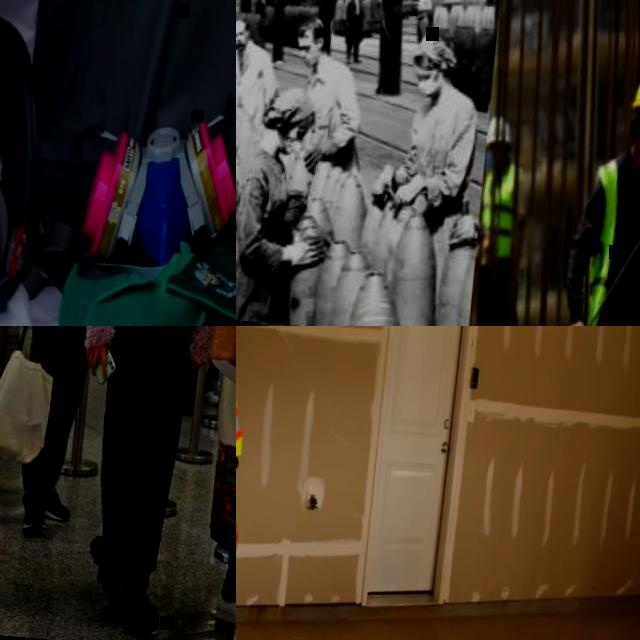Hardhat: (489, 115, 517, 149), (625, 73, 640, 122)
Mask: (76, 106, 236, 275), (0, 7, 54, 326), (281, 135, 303, 157), (417, 78, 440, 98), (486, 150, 500, 173), (300, 52, 317, 68)
NO-Hardhat: (265, 85, 319, 127), (410, 33, 457, 69), (296, 15, 329, 40), (236, 17, 250, 34)
NO-Safety Vest: (236, 147, 293, 265), (406, 90, 459, 174), (301, 63, 347, 134), (236, 47, 263, 101), (346, 0, 364, 21), (414, 0, 430, 15)
Person: (59, 326, 226, 640), (1, 326, 146, 548), (236, 80, 339, 326), (565, 62, 640, 326), (389, 32, 485, 211), (469, 119, 542, 326), (282, 12, 373, 168), (236, 14, 283, 100), (340, 0, 368, 64), (413, 0, 436, 40)
Safety Vest: (582, 156, 640, 326), (479, 167, 526, 257)
